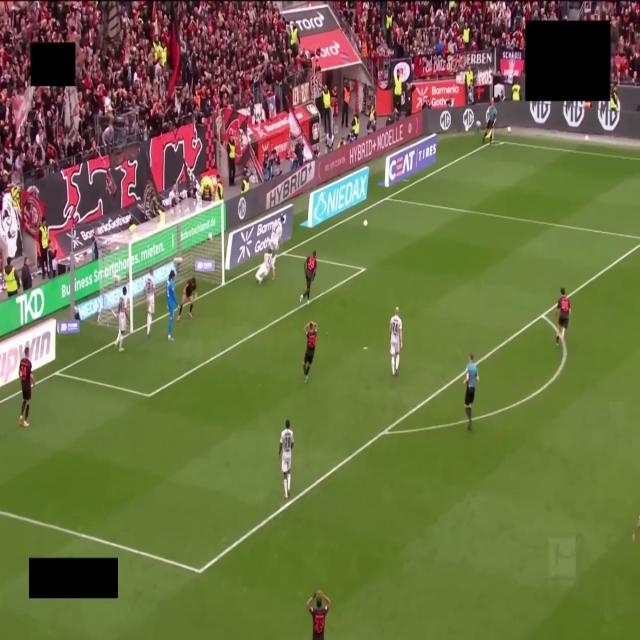ball: (363, 220, 367, 226)
player: (19, 347, 34, 427), (279, 420, 293, 499), (307, 591, 330, 639), (389, 307, 402, 375), (177, 277, 196, 321), (115, 287, 128, 351), (300, 251, 316, 303), (556, 288, 570, 345), (304, 321, 317, 382), (167, 270, 177, 341), (145, 269, 155, 337), (270, 216, 284, 263), (256, 249, 274, 283), (632, 519, 639, 541)
referee: (465, 353, 479, 430)
